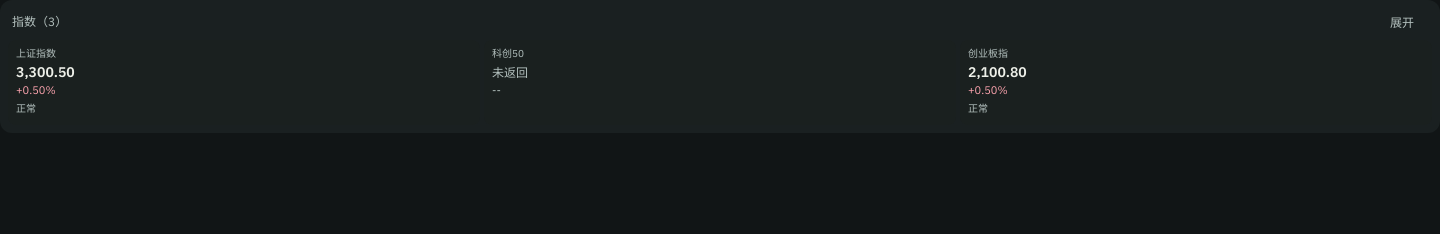
IndexCards 指数点击交互 › 展开与退出保留常用卡身份；收起的其它指数立刻退出操作范围，快速反向不被旧计时清掉
Click the button "指数（3） 展开" at (52, 22), box [8,8,1432,36]
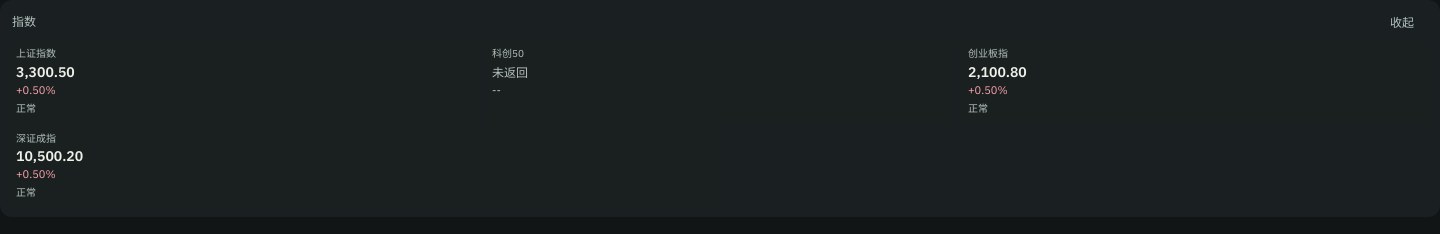
Expected: the button "深证成指 10,500.20 +0.50% 正常" is shown, [8,124,718,209]
Click the button "指数 收起" at (24, 22), box [8,8,1432,36]
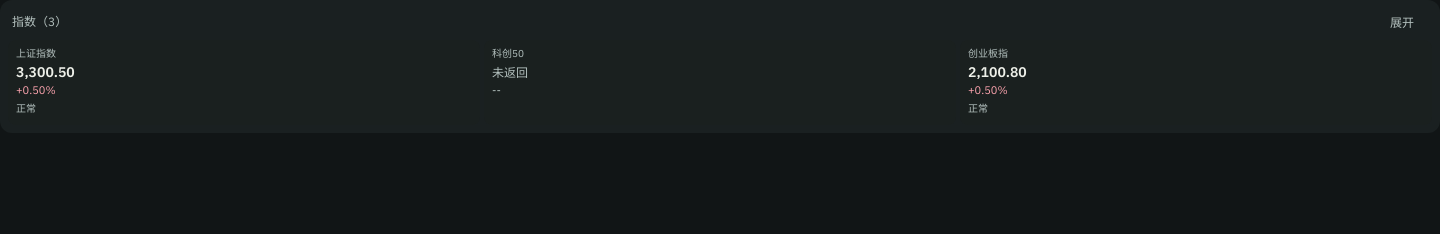
Expected: the button "深证成指" is gone
Click the button "指数（3） 展开" at (52, 22), box [8,8,1432,36]
Wait 200 ms
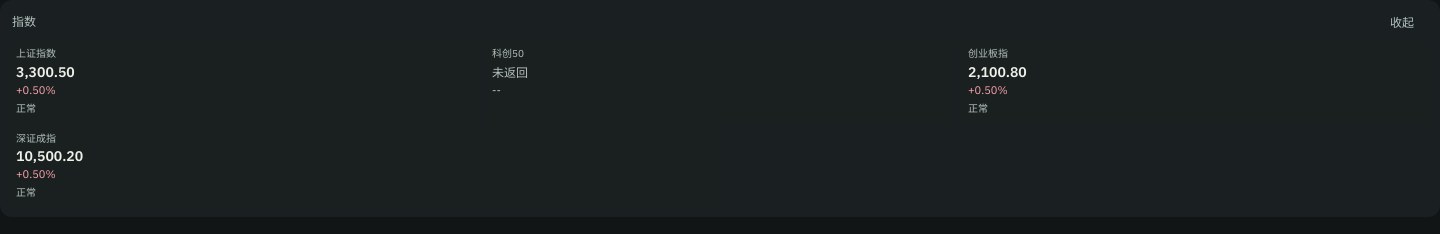
Expected: the button "深证成指 10,500.20 +0.50% 正常" is shown, [8,124,718,209]
Click the button "指数 收起" at (24, 22), box [8,8,1432,36]
Wait 160 ms
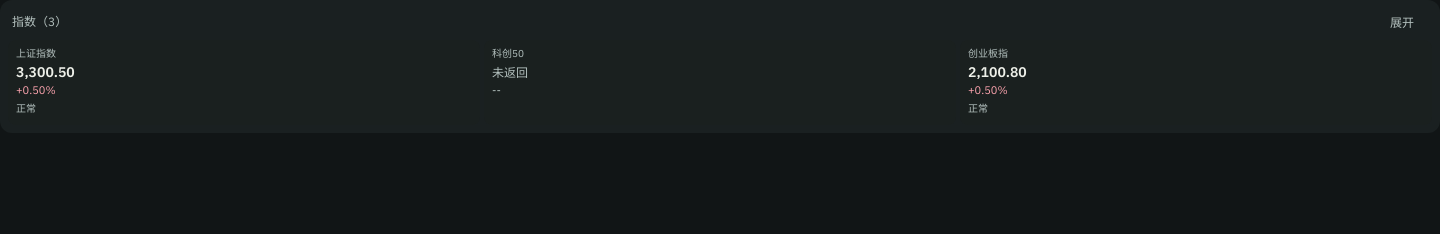
Expected: the element with class "index-extras" is gone
